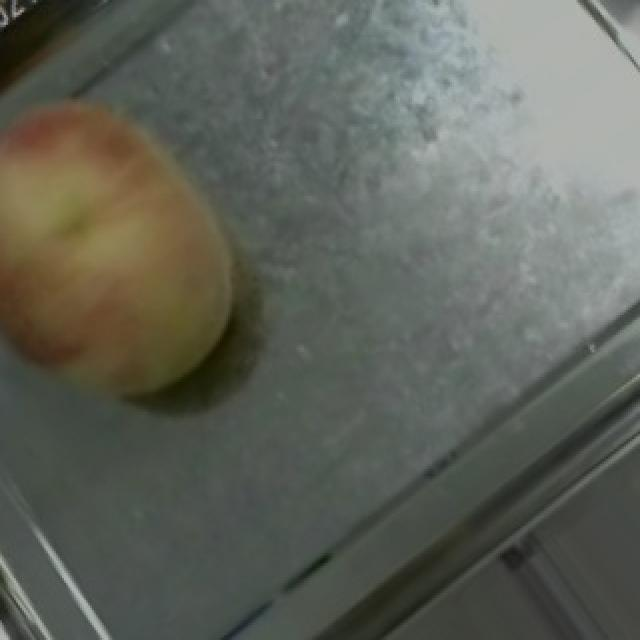Fruit: (0, 44, 286, 407)
